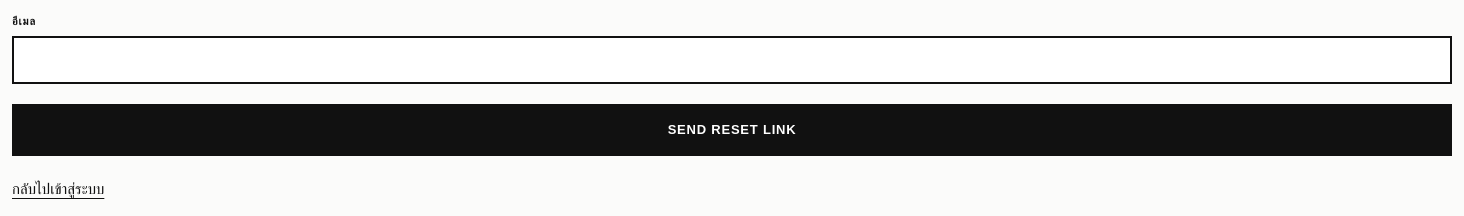
ForgotForm › confirms a reset link was sent
The width and height of the screenshot is (1464, 216).
Type "a@b.co" into the field labelled "อีเมล" at (732, 60), box [12,36,1452,84]
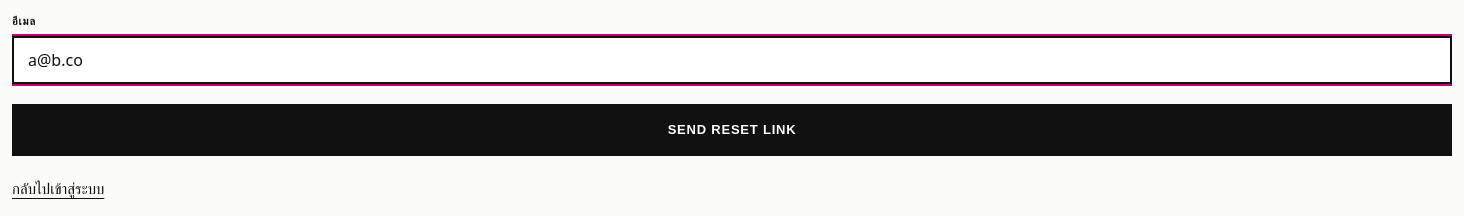
Click the button "SEND RESET LINK" at (732, 130), box [12,104,1452,156]
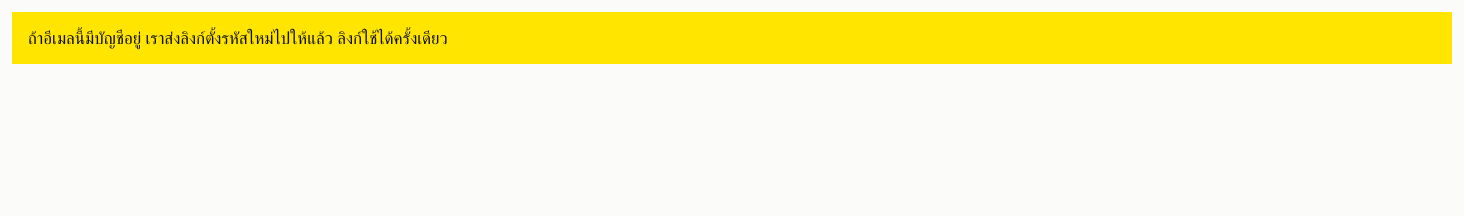
expect the message shows "ส่งลิงก์": met, box [28,26,448,49]
